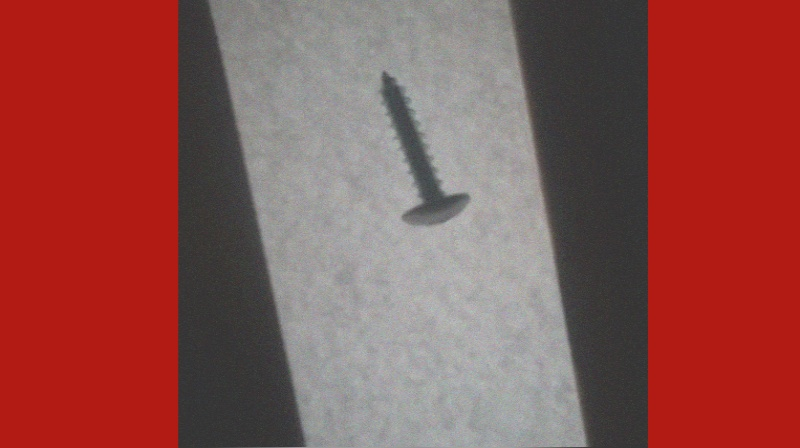S003: (373, 64, 474, 229)
